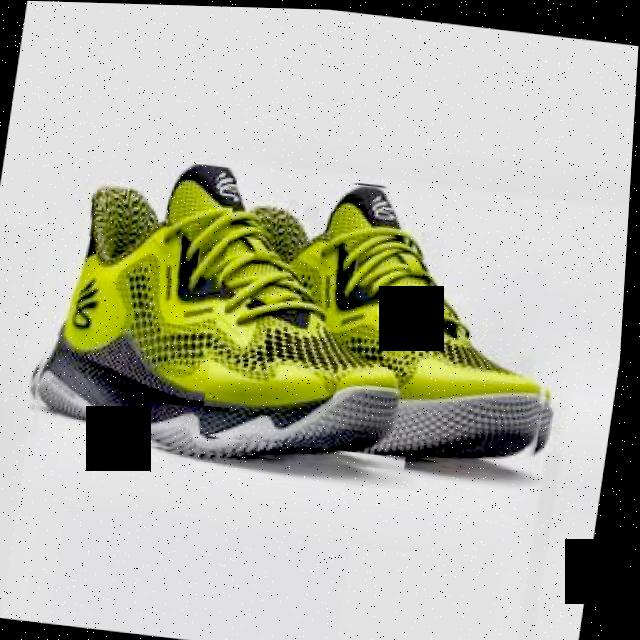shoe: (25, 147, 448, 477), (203, 168, 586, 472)
